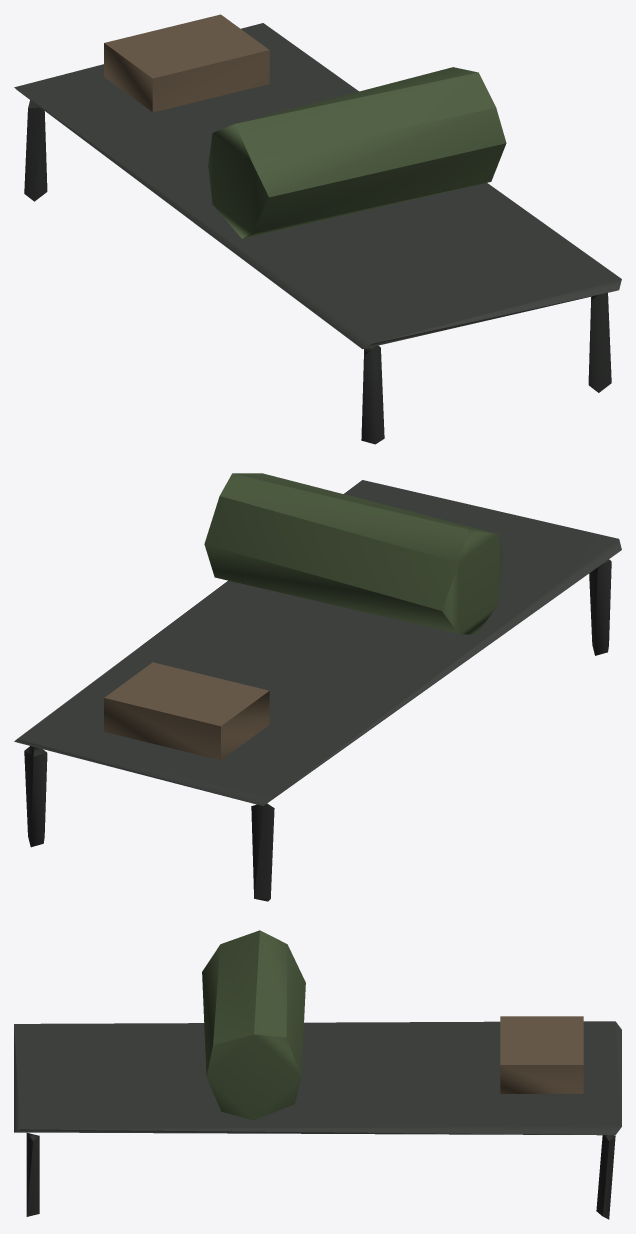
The model's file is cot_bedroll_lod2.glb.
3 views of the same model, one above another, from view 1: azimuth 30°, elevation 25°; view 2: azimuth 150°, elevation 25°; view 3: azimuth 270°, elevation 25° (orthographic). The views are drawn at different scales.
Visible parts, largest first — view 1: prop.cot_bedroll; view 2: prop.cot_bedroll; view 3: prop.cot_bedroll.
Boxes of the visible parts, <box> form: prop.cot_bedroll: <box>14,14,621,444</box>; prop.cot_bedroll: <box>14,473,621,901</box>; prop.cot_bedroll: <box>14,930,621,1219</box>.
Bounding box in the file's own units: 0.4831 × 0.3999 × 1.15.
